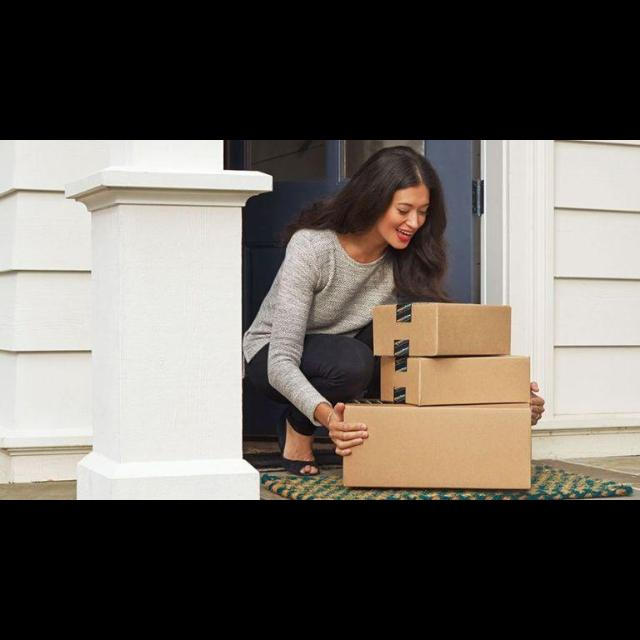box: (342, 400, 532, 490), (379, 354, 531, 408), (372, 302, 512, 360)
